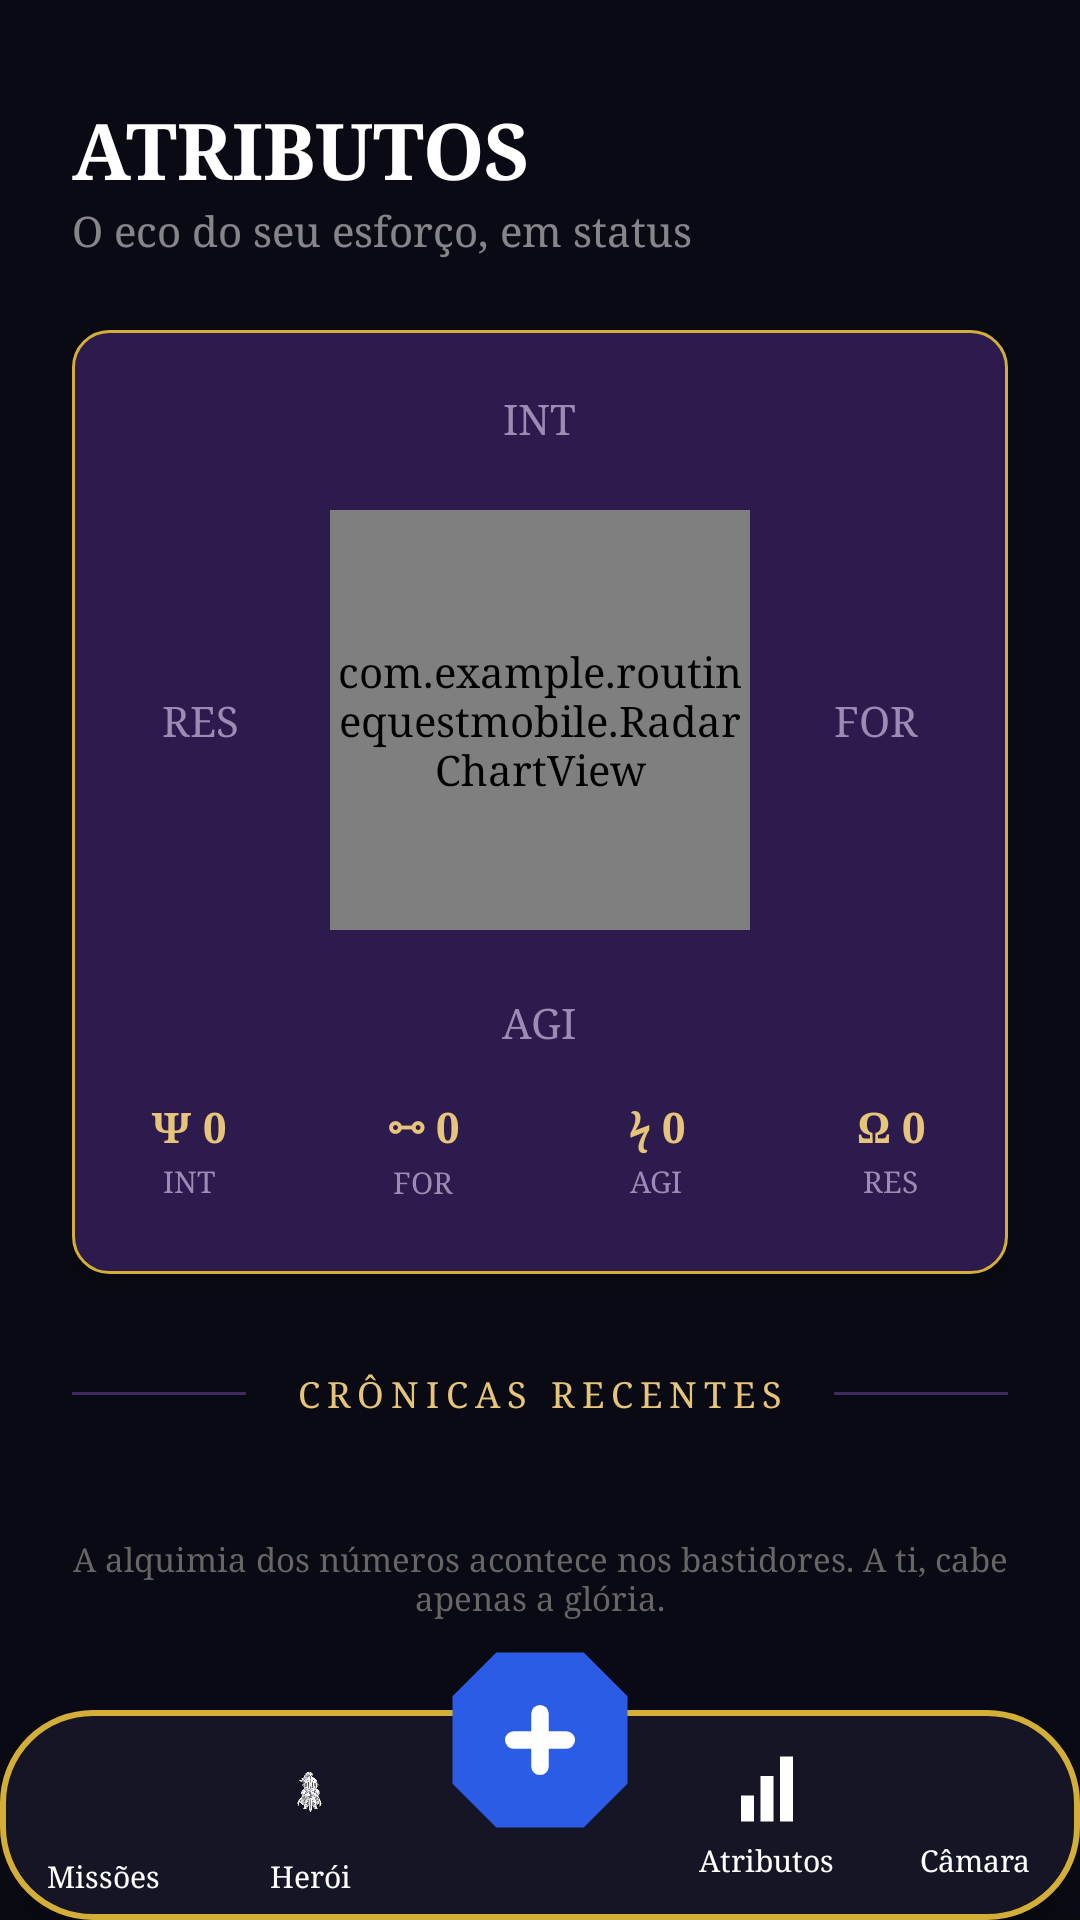

Where to tap for icons on this 1080*1920 app screen, as point (x, y):
iconeperfil: point (309, 1792)
